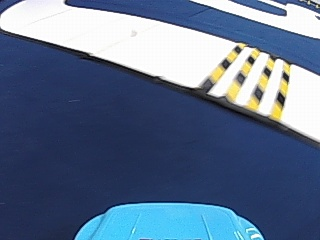bump: (197, 43, 296, 114)
